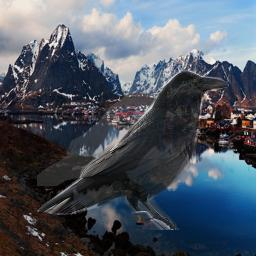Crow: (37, 70, 229, 230)
